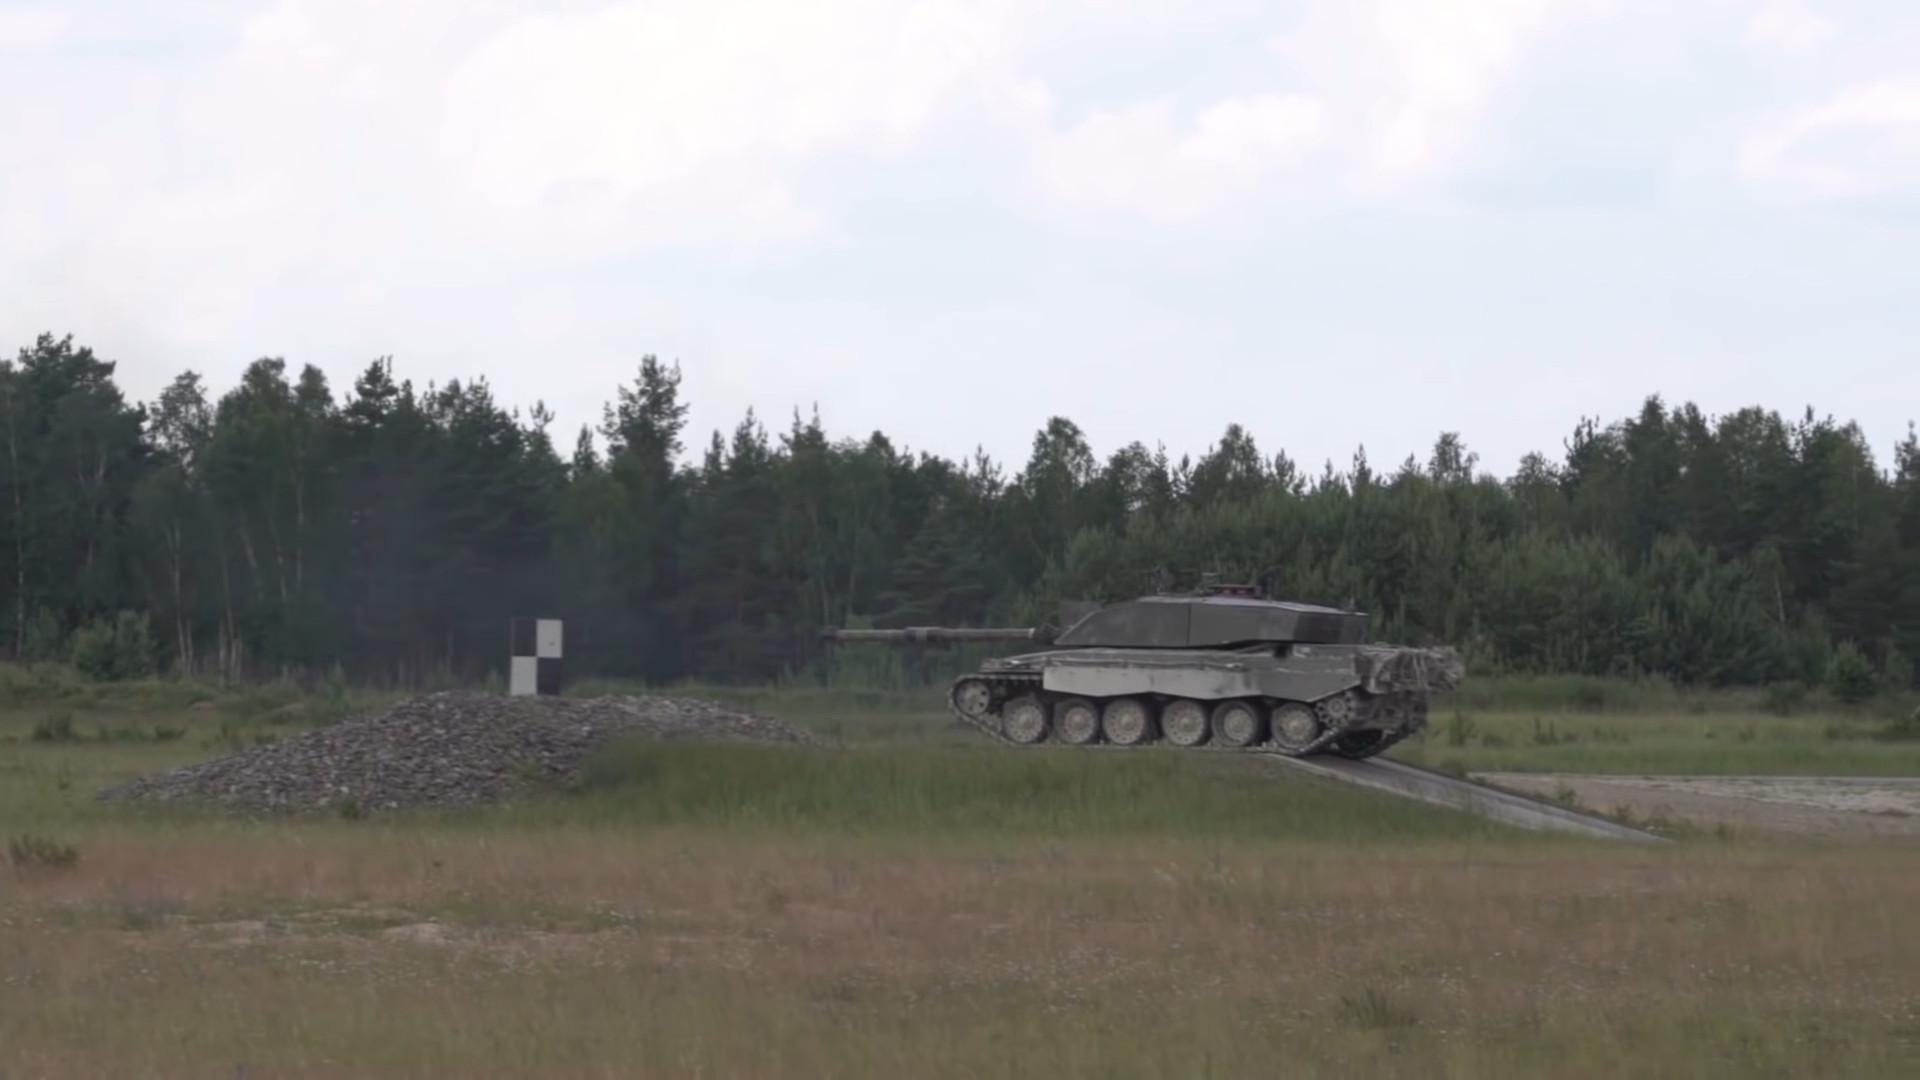tank: (819, 584, 1464, 760)
